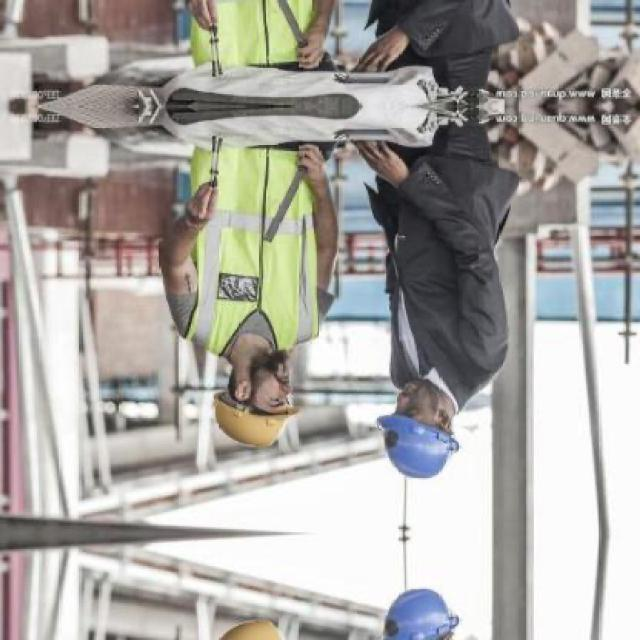con casco: (363, 356, 478, 494), (228, 348, 332, 479)
